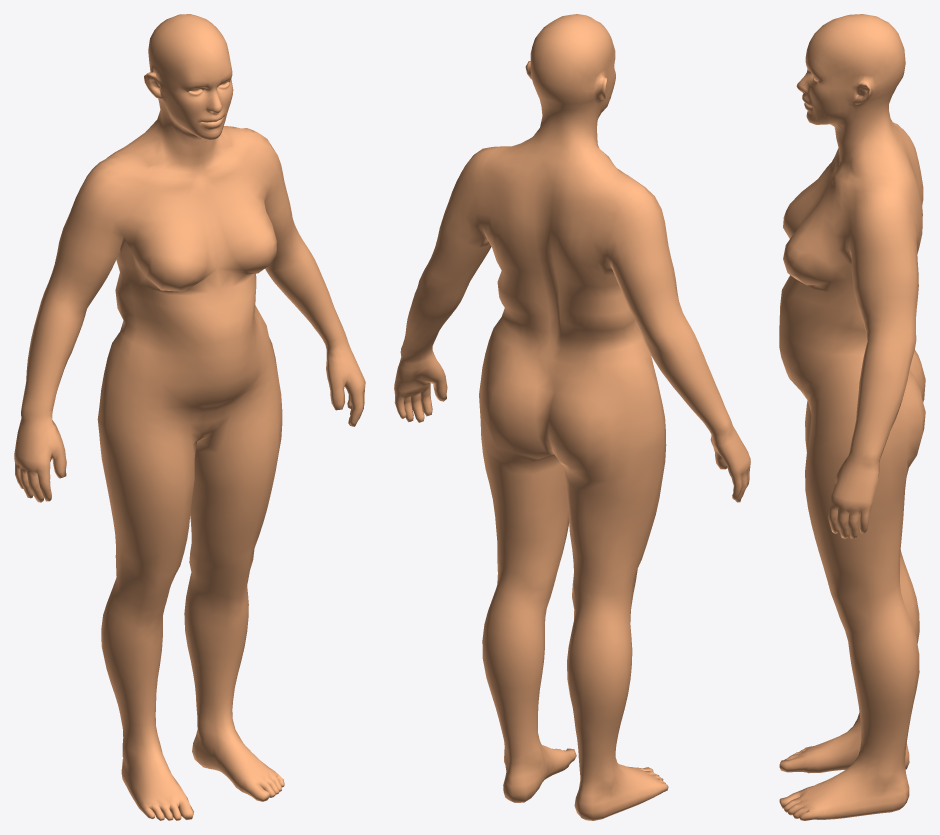
The model's file is waistmid.obj.
The picture shows the model from 3 angles, left to right: view 1: azimuth 30°, elevation 25°; view 2: azimuth 150°, elevation 25°; view 3: azimuth 270°, elevation 25°; orthographic projection.
Parts seen in each view (by area): view 1: waistmid_Realistic_White_Female_Low_Poly.001; view 2: waistmid_Realistic_White_Female_Low_Poly.001; view 3: waistmid_Realistic_White_Female_Low_Poly.001.
Part boxes in pixels (x1,y1,x2,y2): waistmid_Realistic_White_Female_Low_Poly.001: (14,14,365,820); waistmid_Realistic_White_Female_Low_Poly.001: (394,14,750,820); waistmid_Realistic_White_Female_Low_Poly.001: (779,14,925,820).
Size of the model in its own units: 0.7754 by 1.66 by 0.2844.
